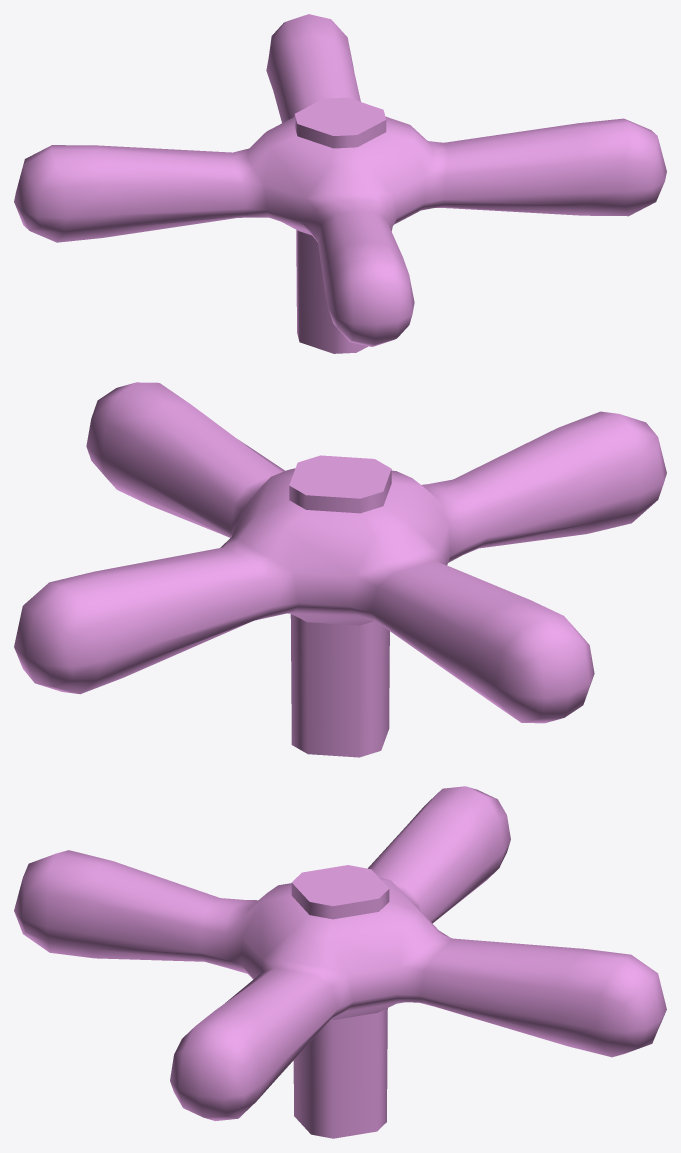
The model's file is Perilla_2.fbx.
3 renders of one model, top to bottom at view 1: azimuth 30°, elevation 25°; view 2: azimuth 150°, elevation 25°; view 3: azimuth 270°, elevation 25°, orthographic. The views are drawn at different scales.
Parts seen in each view (by area): view 1: Perilla_2; view 2: Perilla_2; view 3: Perilla_2.
Boxes of the visible parts, <box> form: Perilla_2: <box>14,14,666,353</box>; Perilla_2: <box>14,382,666,757</box>; Perilla_2: <box>14,786,666,1138</box>.
Size of the model in its own units: 0.0411 by 0.0162 by 0.0411.
